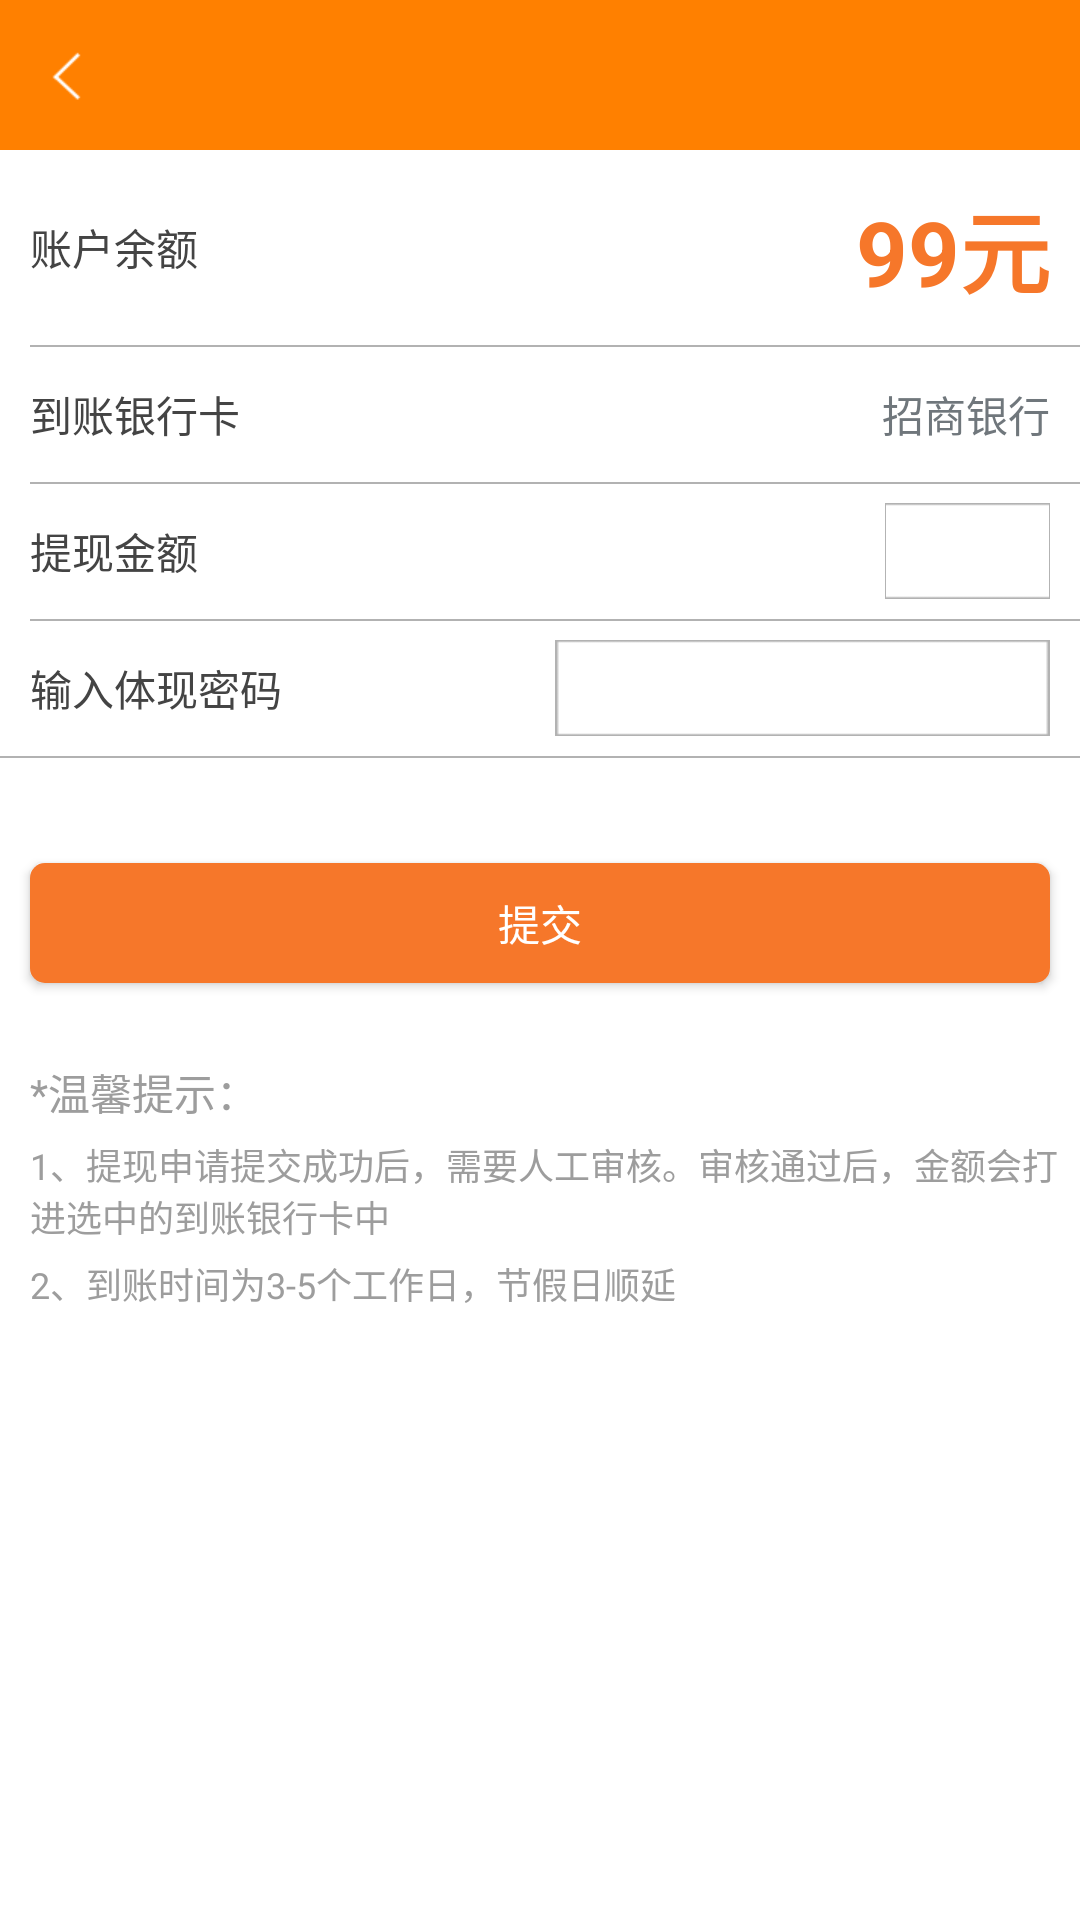

Icon bounding boxes for this 1080w x 1920h phone screenshot, format BBox(x1, y1, x2, y2):
title back: BBox(53, 52, 81, 100)
